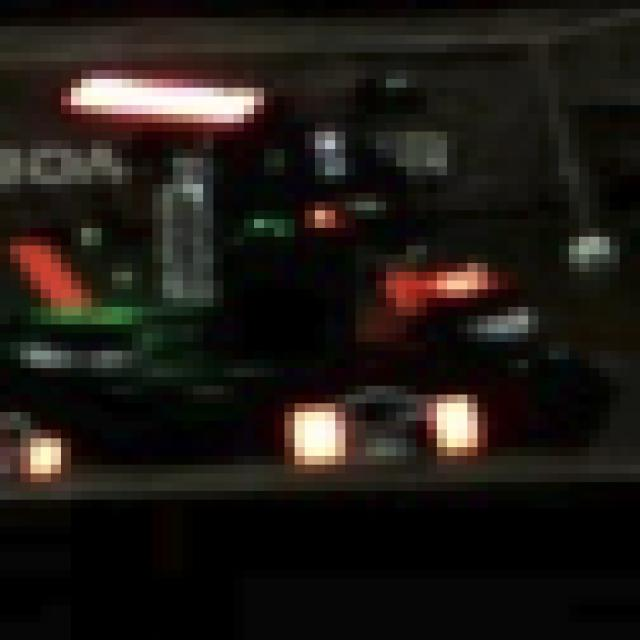Rs: (284, 386, 508, 473)
